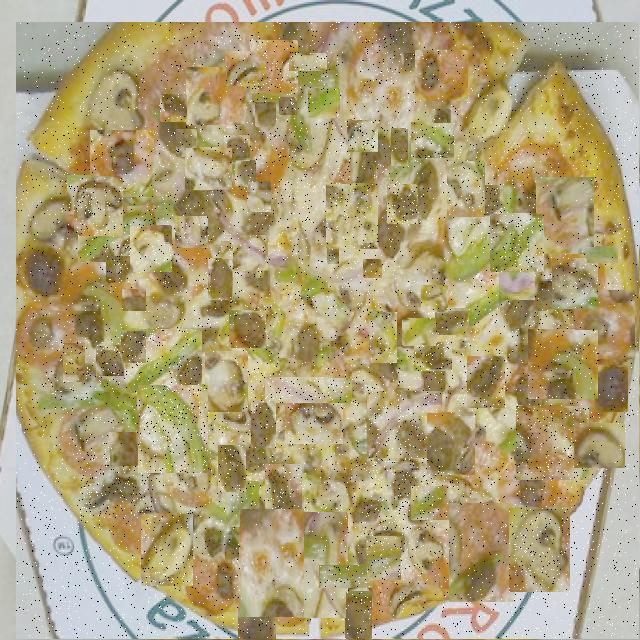Beef: (427, 413, 475, 475), (468, 358, 505, 410), (266, 465, 302, 516), (239, 595, 276, 639), (596, 366, 628, 412), (230, 311, 266, 348), (466, 499, 496, 542), (219, 446, 246, 492), (346, 592, 372, 639), (388, 185, 418, 224), (252, 401, 276, 448), (415, 343, 452, 371), (110, 433, 140, 466), (209, 259, 233, 300), (420, 52, 441, 96), (96, 346, 125, 376), (436, 309, 469, 335), (110, 153, 134, 186), (107, 256, 136, 283), (122, 331, 146, 363), (551, 316, 576, 346), (161, 95, 187, 122), (225, 136, 250, 164), (287, 172, 310, 202), (274, 140, 304, 162), (482, 186, 503, 216), (392, 129, 408, 166), (604, 311, 623, 342), (338, 300, 354, 336), (177, 130, 197, 157), (120, 193, 140, 219), (236, 161, 256, 187), (123, 290, 146, 311), (256, 103, 276, 127), (257, 284, 282, 301), (433, 110, 451, 128), (364, 260, 382, 278), (280, 98, 297, 115), (402, 54, 415, 76), (328, 249, 339, 264)
Green Pepper: (138, 385, 208, 473), (126, 330, 202, 393), (78, 206, 156, 262), (491, 214, 544, 272), (412, 123, 454, 158), (367, 537, 401, 580), (227, 482, 259, 527), (370, 312, 397, 363), (411, 486, 449, 520), (319, 565, 373, 588), (238, 208, 306, 226), (339, 515, 359, 567), (254, 291, 280, 330), (309, 90, 340, 120), (403, 319, 436, 346), (352, 96, 377, 122), (587, 247, 618, 263), (383, 301, 408, 320), (328, 362, 352, 381), (355, 376, 377, 394)
Mushrooms: (509, 508, 570, 592), (397, 516, 456, 601), (142, 514, 193, 586), (327, 184, 378, 249), (68, 176, 123, 236), (206, 352, 248, 412), (306, 135, 353, 185), (286, 403, 343, 444), (553, 259, 598, 309), (574, 424, 625, 468), (359, 34, 399, 86), (448, 162, 485, 217), (269, 246, 308, 296), (186, 148, 232, 190), (130, 226, 172, 272), (402, 225, 444, 269), (226, 52, 266, 86), (233, 236, 268, 271), (182, 484, 212, 522), (176, 217, 208, 248), (348, 120, 378, 152), (63, 343, 85, 382), (248, 182, 271, 212), (422, 286, 448, 312), (289, 54, 327, 71)
Onions: (298, 513, 348, 618), (368, 392, 442, 458), (266, 378, 352, 403), (222, 242, 264, 278), (500, 265, 535, 300)
Pepperoni: (240, 509, 304, 617), (449, 504, 515, 602), (80, 439, 154, 518), (363, 458, 444, 530), (517, 408, 589, 482), (529, 330, 598, 399), (538, 178, 596, 254), (91, 131, 156, 197), (43, 339, 104, 406), (575, 291, 635, 359), (493, 98, 547, 162), (187, 68, 246, 125), (44, 235, 87, 311), (416, 51, 468, 101), (251, 41, 298, 93), (343, 36, 386, 90)
Pizza: (17, 23, 638, 638)
